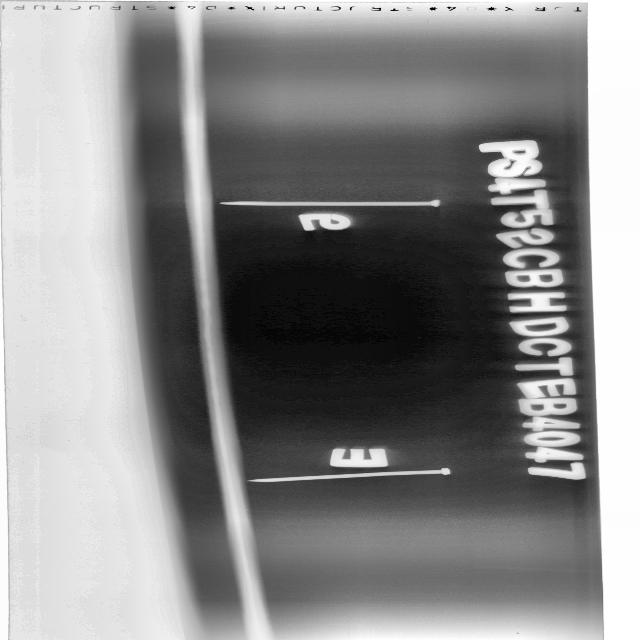LOP: (188, 206, 222, 348), (219, 358, 230, 458)
